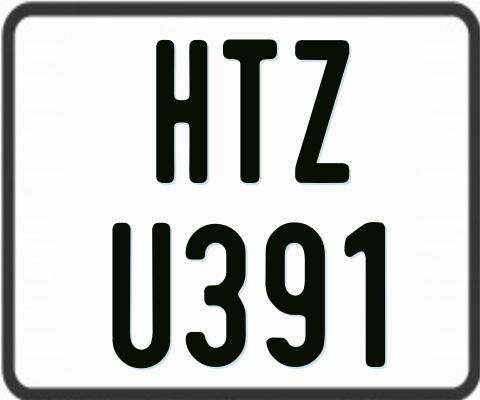1: (343, 222, 385, 373)
3: (184, 221, 250, 367)
9: (264, 221, 330, 370)
H: (154, 40, 209, 187)
T: (223, 38, 281, 186)
U: (109, 221, 171, 369)
Z: (295, 40, 350, 185)
